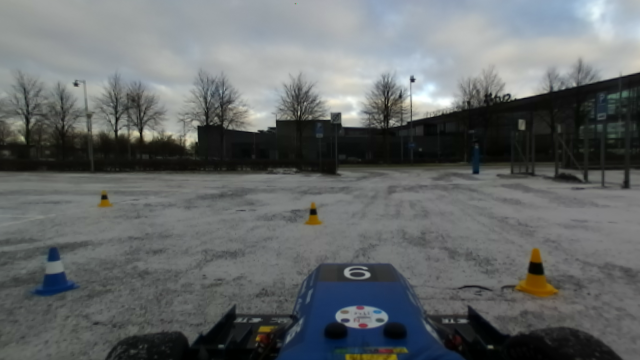blue: (31, 243, 80, 299)
yellow: (514, 248, 559, 300), (305, 200, 323, 228)
